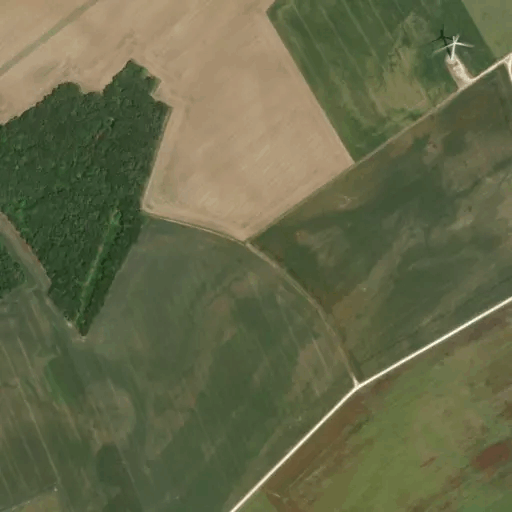wt: (420, 17, 477, 72)
